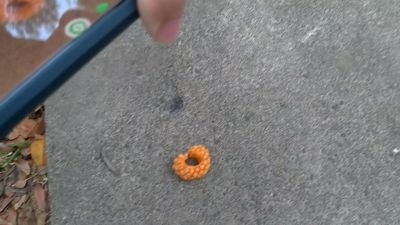eggs: (171, 144, 213, 181)
